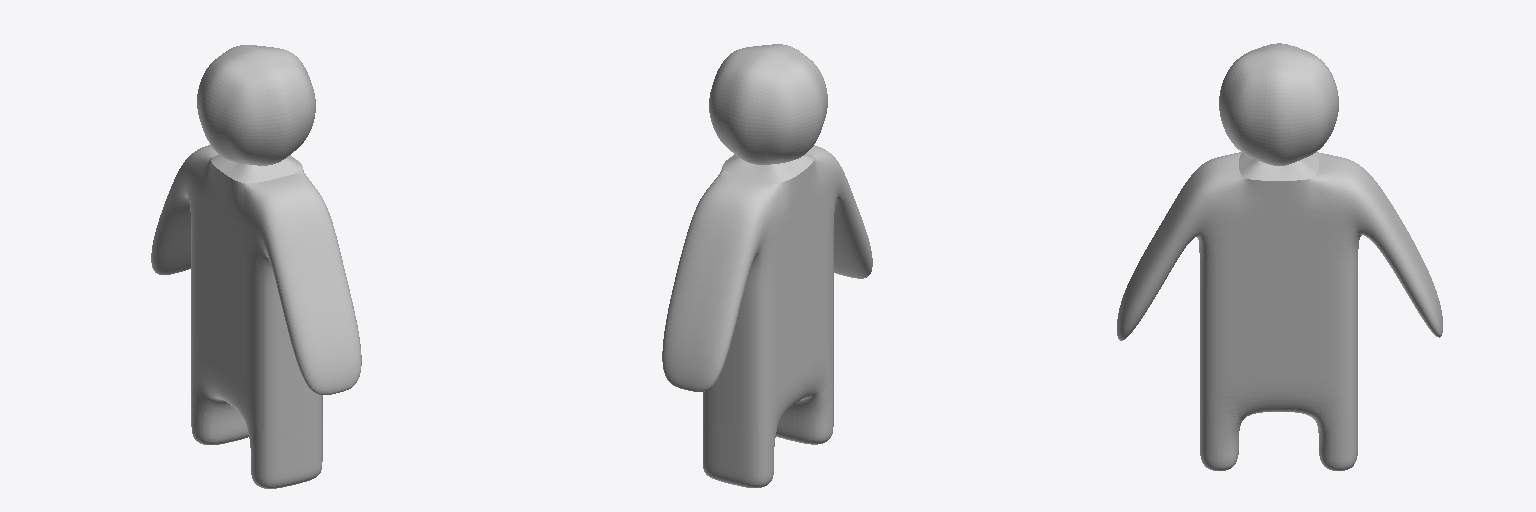
Rendered from MainCharacter.obj.
The picture shows the model from 3 angles: view 1: azimuth 30°, elevation 25°; view 2: azimuth 150°, elevation 25°; view 3: azimuth 270°, elevation 25°; orthographic projection.
Parts seen in each view (by area): view 1: Map1&Map2_v19_MainChar_0; view 2: Map1&Map2_v19_MainChar_0; view 3: Map1&Map2_v19_MainChar_0.
Boxes of the visible parts, box(x1,y1,x2,y2) form: Map1&Map2_v19_MainChar_0: box(151, 45, 361, 488); Map1&Map2_v19_MainChar_0: box(662, 44, 872, 487); Map1&Map2_v19_MainChar_0: box(1117, 43, 1442, 470).
Bounding box in the file's own units: 7.93 × 29.84 × 21.55.